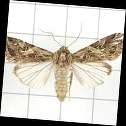Spodoptera litura: (5, 20, 122, 103)
